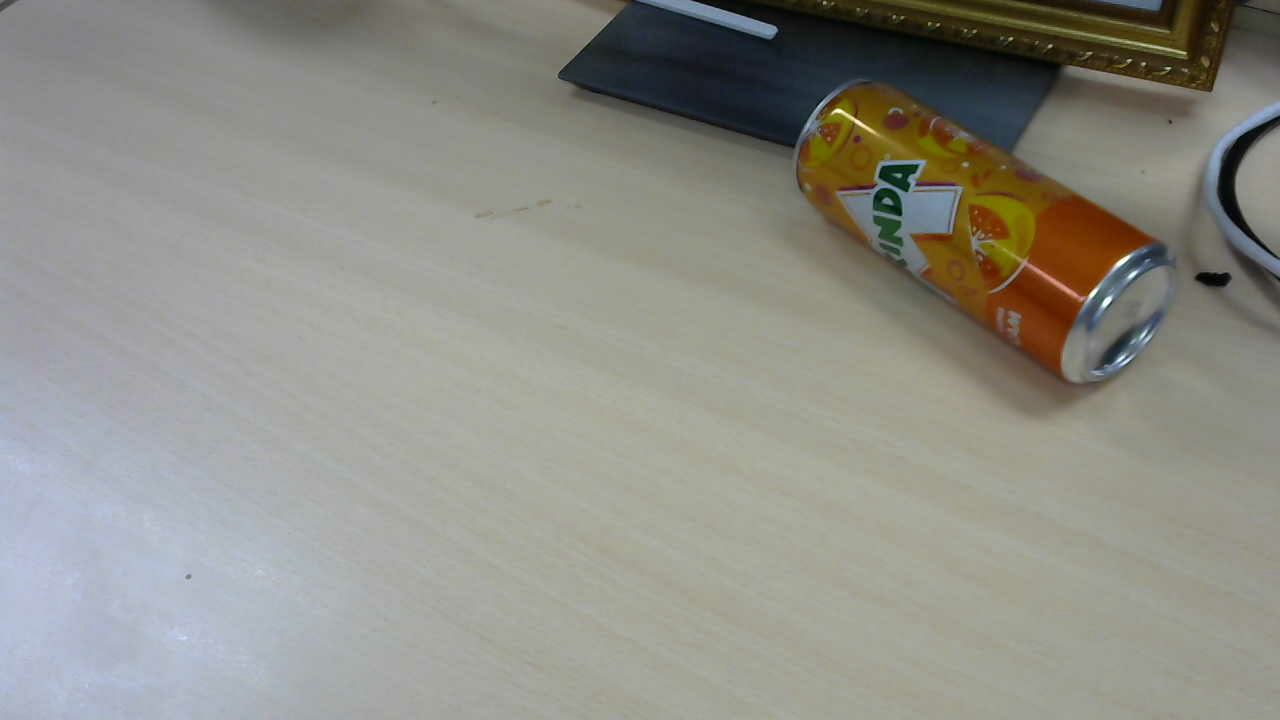Mirinda: (799, 83, 1183, 391)
